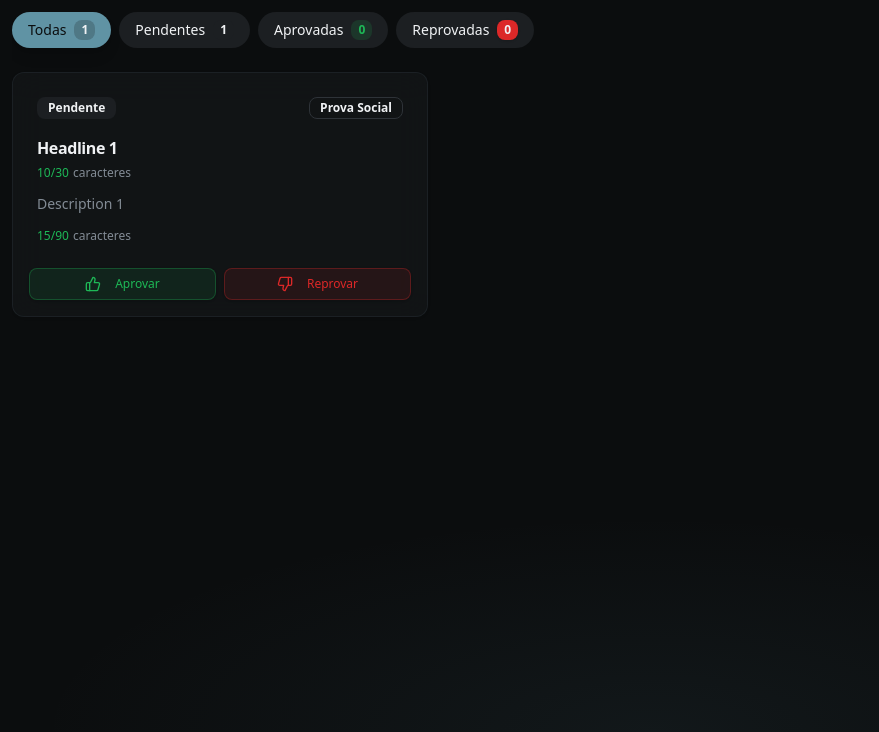
Scenario: VariationGrid › should show empty message when no variations match filter
Click the button "Aprovadas 0" at x=323, y=30, box [258,12,388,48]
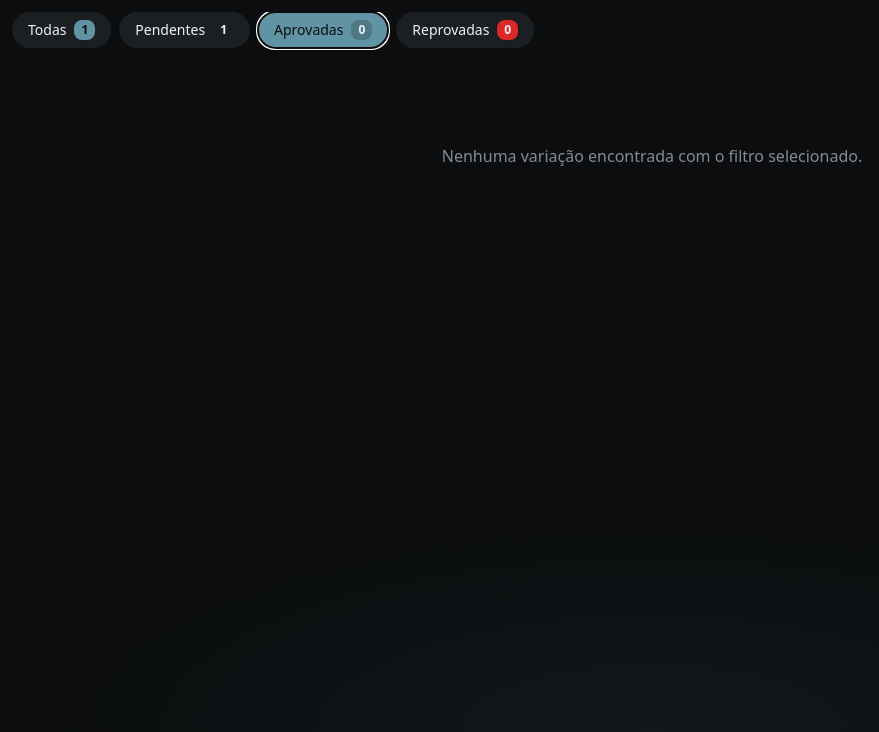
Check: the text "Nenhuma variação encontrada com o filtro selecionado." is shown, box [442,145,862,167]
